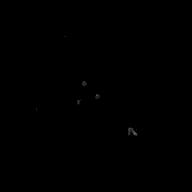v: (74, 78, 99, 103)
